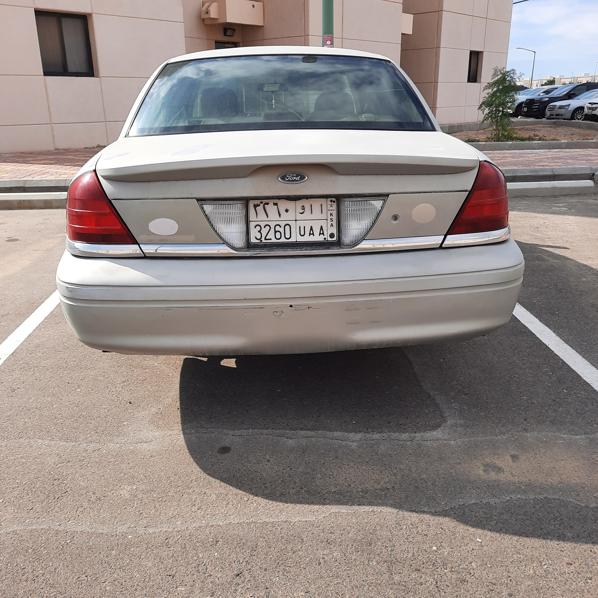numberplate: (249, 200, 337, 242)
